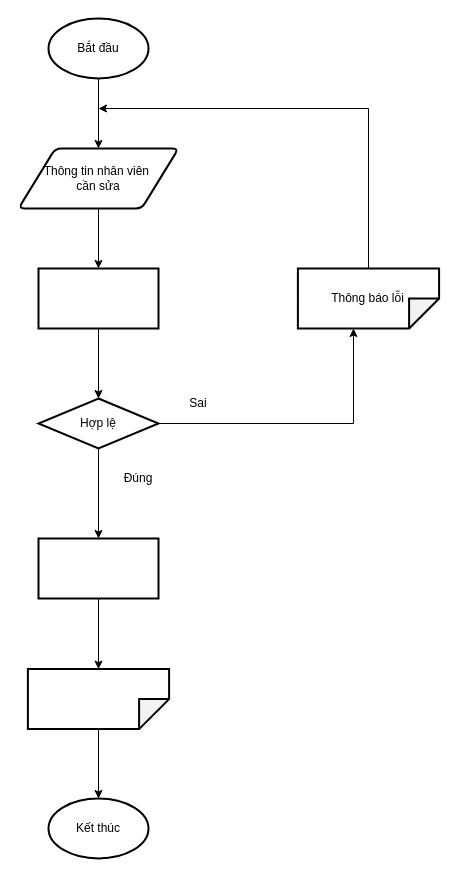
This 457x876 diagram has some shape labels left out. The shapes that lost their labels are listed below. From the top down, each one's box as (x1, y1, x2, y2) in pixels, then its label:
(37, 267, 159, 329): Kiểm tra tính hợp lệ của thông tin
(37, 537, 159, 599): Cập nhật dữ liệu vào database
(26, 668, 170, 730): Thông báo sửa thành công
